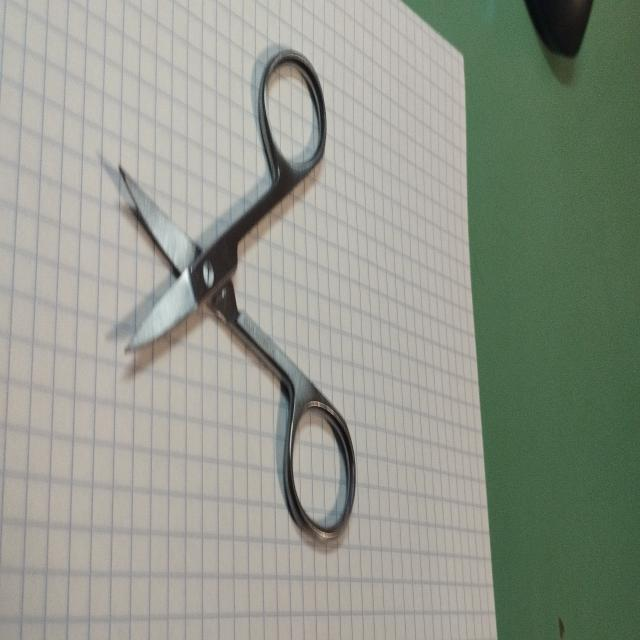tesoura: (115, 41, 358, 556)
